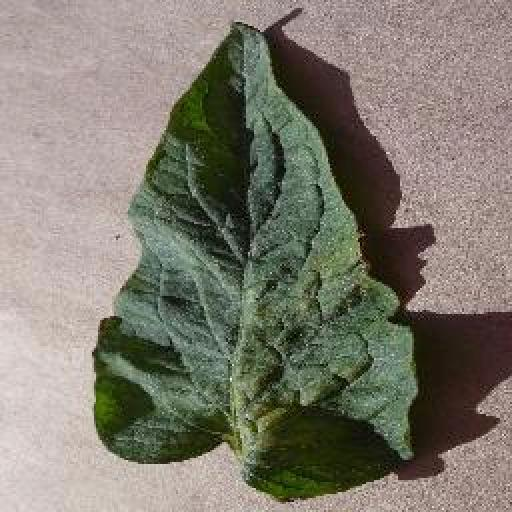disease_tomato: (96, 22, 422, 506)
